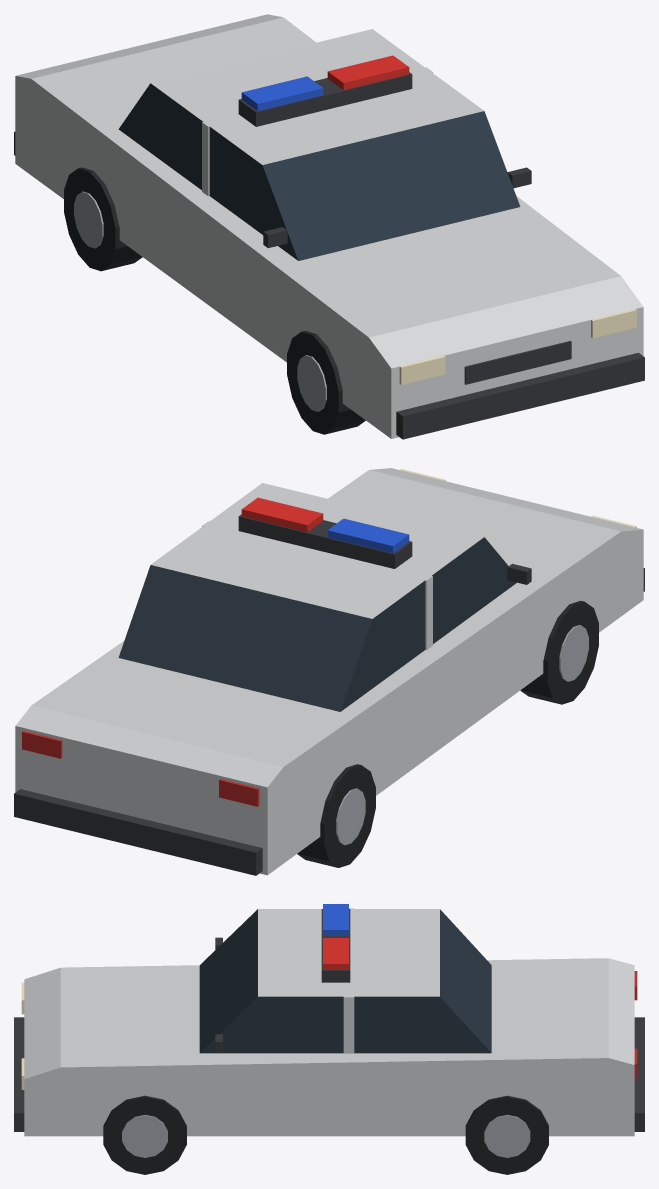
File: police_car.glb
The picture shows the model from 3 angles, top to bottom: view 1: azimuth 30°, elevation 25°; view 2: azimuth 150°, elevation 25°; view 3: azimuth 270°, elevation 25°; orthographic projection. The views are drawn at different scales.
Parts seen in each view (by area): view 1: Body, Wheel_FR, Wheel_RR; view 2: Body, Wheel_RR, Wheel_FR; view 3: Body, Wheel_FL, Wheel_RL.
Boxes of the visible parts, x1,y1,x2,y2 form: Body: (14,14,644,439); Wheel_FR: (287,331,365,434); Wheel_RR: (64,167,142,271); Body: (14,468,644,875); Wheel_RR: (297,764,375,867); Wheel_FR: (520,600,598,704); Body: (14,904,644,1136); Wheel_FL: (103,1095,186,1174); Wheel_RL: (465,1095,548,1174).
Bounding box in the file's own units: 1.9 × 1.61 × 4.86.
